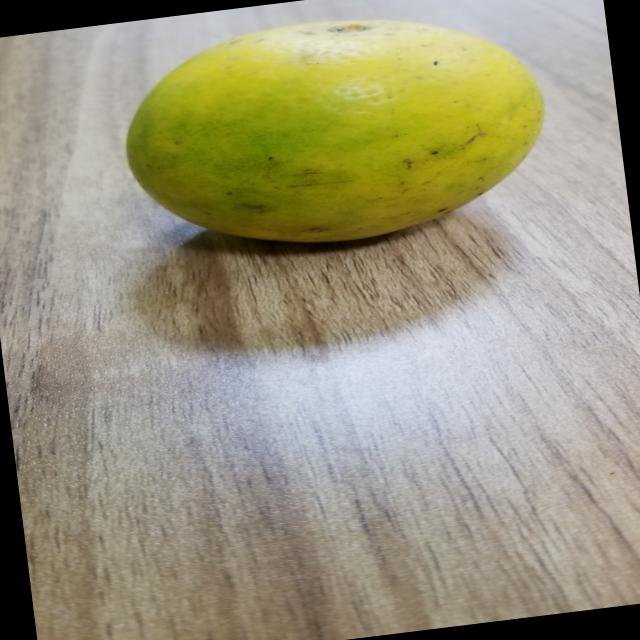Ripe orange: (89, 0, 560, 270)
